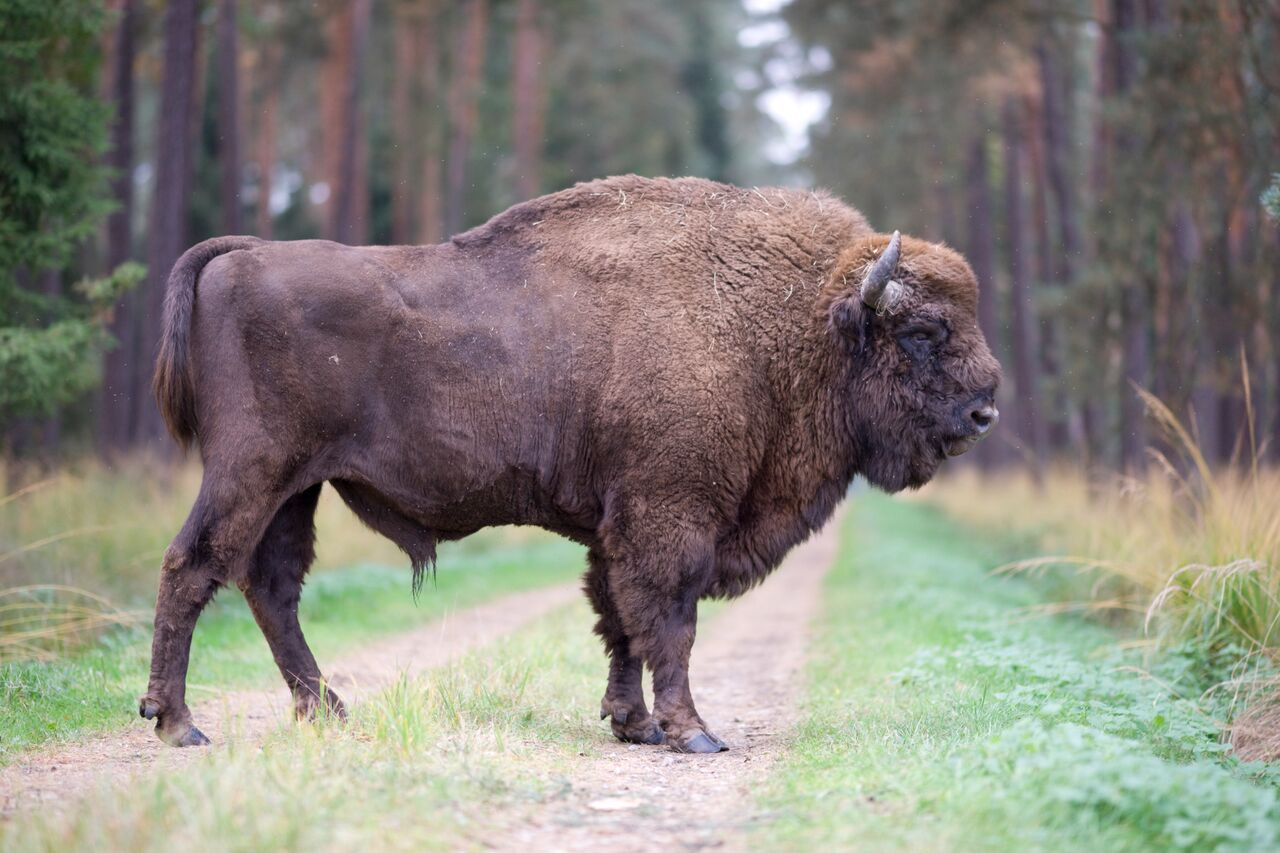zubr: (115, 132, 1069, 825)
